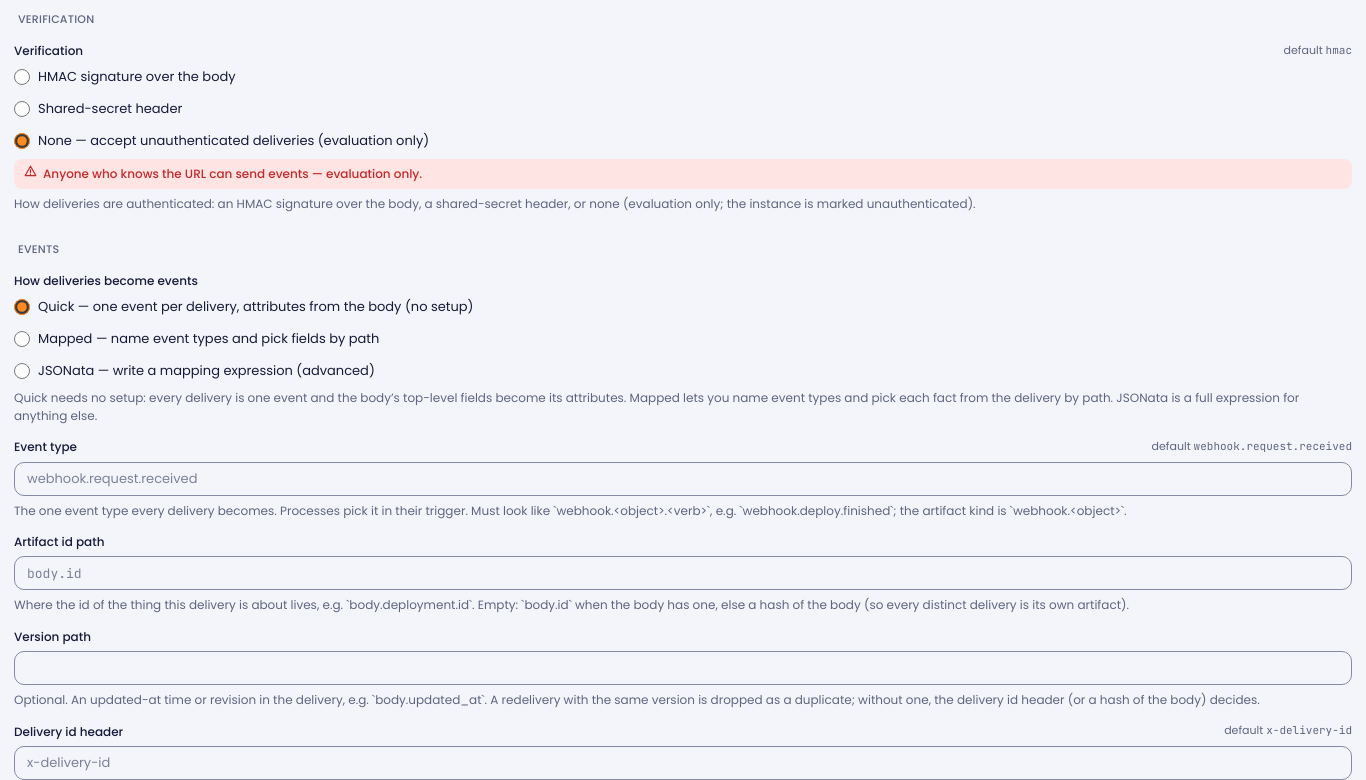
SchemaForm with the webhook mapping modes › switching to JSONata shows the event types and the mapping
Step 1. Click the radio button labelled "JSONata — write a mapping expression (advanced)" → click(22, 371), box [14, 363, 30, 379]
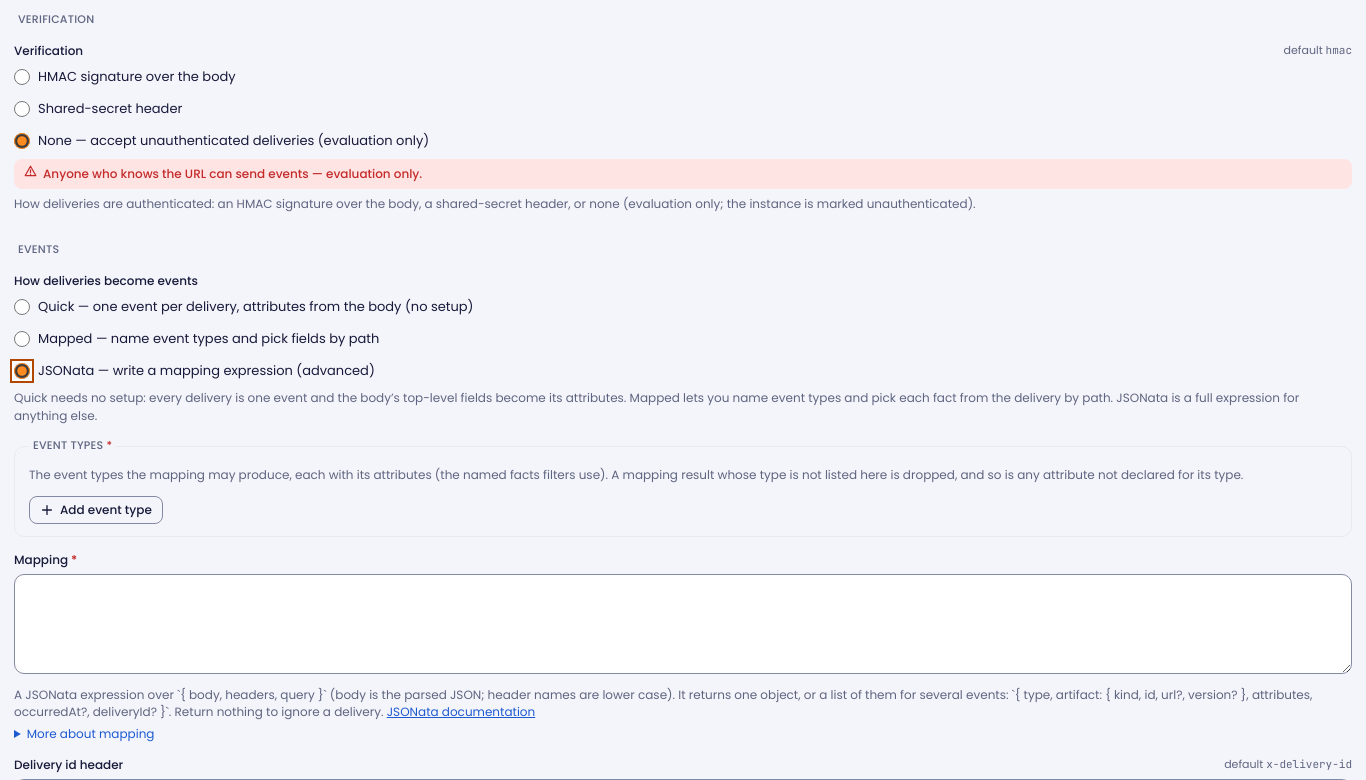
Now the text "Mapping" is shown, box [14, 550, 68, 568]
Now the button "Add event type" is shown, box [29, 496, 163, 524]
